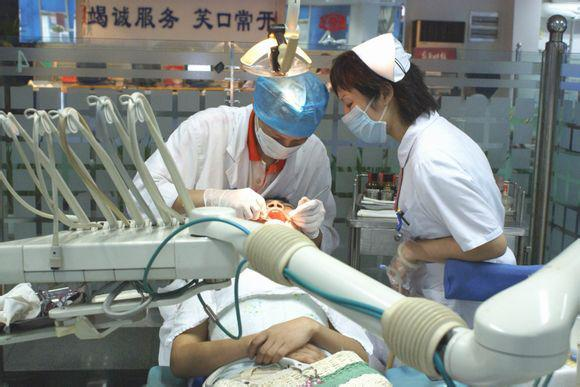OK: (339, 75, 402, 147), (255, 119, 307, 163)
